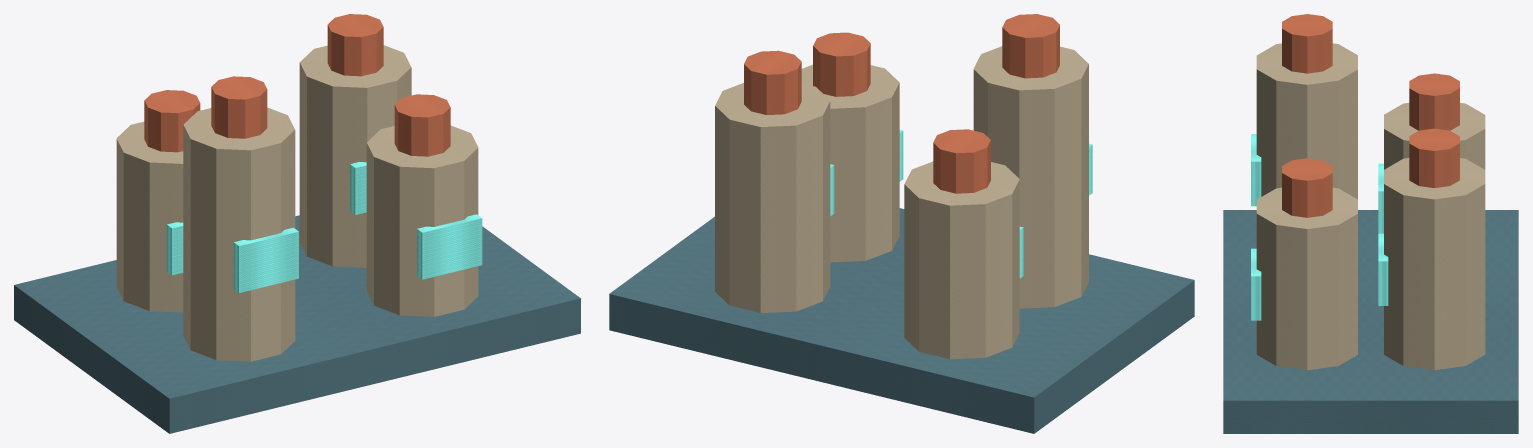
Rendered from atlas100-s041-a04.glb.
The picture shows the model from 3 angles, left to right: view 1: azimuth 30°, elevation 25°; view 2: azimuth 150°, elevation 25°; view 3: azimuth 270°, elevation 25°; orthographic projection. The views are drawn at different scales.
Parts seen in each view (by area): view 1: atlas100-s041-a04:part-000, atlas100-s041-a04:part-007, atlas100-s041-a04:part-010, atlas100-s041-a04:part-004, atlas100-s041-a04:part-001, atlas100-s041-a04:part-012, atlas100-s041-a04:part-009, atlas100-s041-a04:part-011, atlas100-s041-a04:part-005, atlas100-s041-a04:part-008, atlas100-s041-a04:part-002, atlas100-s041-a04:part-003 (+1 smaller); view 2: atlas100-s041-a04:part-000, atlas100-s041-a04:part-004, atlas100-s041-a04:part-007, atlas100-s041-a04:part-001, atlas100-s041-a04:part-010, atlas100-s041-a04:part-002, atlas100-s041-a04:part-008, atlas100-s041-a04:part-005, atlas100-s041-a04:part-011; view 3: atlas100-s041-a04:part-000, atlas100-s041-a04:part-004, atlas100-s041-a04:part-010, atlas100-s041-a04:part-007, atlas100-s041-a04:part-001, atlas100-s041-a04:part-005, atlas100-s041-a04:part-011, atlas100-s041-a04:part-008, atlas100-s041-a04:part-002, atlas100-s041-a04:part-012, atlas100-s041-a04:part-006, atlas100-s041-a04:part-009 (+1 smaller).
Part boxes in pixels (left/top/right/bottom): atlas100-s041-a04:part-000: left=14, top=215, right=580, bottom=433; atlas100-s041-a04:part-007: left=183, top=107, right=295, bottom=361; atlas100-s041-a04:part-010: left=366, top=125, right=478, bottom=316; atlas100-s041-a04:part-004: left=299, top=45, right=411, bottom=267; atlas100-s041-a04:part-001: left=116, top=121, right=183, bottom=312; atlas100-s041-a04:part-012: left=417, top=214, right=482, bottom=279; atlas100-s041-a04:part-009: left=233, top=227, right=298, bottom=292; atlas100-s041-a04:part-011: left=394, top=94, right=450, bottom=156; atlas100-s041-a04:part-005: left=327, top=14, right=383, bottom=76; atlas100-s041-a04:part-008: left=211, top=76, right=267, bottom=138; atlas100-s041-a04:part-002: left=144, top=90, right=200, bottom=152; atlas100-s041-a04:part-003: left=166, top=222, right=183, bottom=275; atlas100-s041-a04:part-000: left=609, top=208, right=1194, bottom=433; atlas100-s041-a04:part-004: left=715, top=83, right=830, bottom=312; atlas100-s041-a04:part-007: left=973, top=46, right=1088, bottom=308; atlas100-s041-a04:part-001: left=904, top=161, right=1019, bottom=359; atlas100-s041-a04:part-010: left=801, top=64, right=899, bottom=262; atlas100-s041-a04:part-002: left=933, top=129, right=990, bottom=193; atlas100-s041-a04:part-008: left=1002, top=14, right=1059, bottom=78; atlas100-s041-a04:part-005: left=744, top=50, right=801, bottom=114; atlas100-s041-a04:part-011: left=813, top=32, right=870, bottom=96; atlas100-s041-a04:part-000: left=1223, top=210, right=1518, bottom=433; atlas100-s041-a04:part-004: left=1384, top=158, right=1485, bottom=370; atlas100-s041-a04:part-010: left=1256, top=187, right=1357, bottom=370; atlas100-s041-a04:part-007: left=1256, top=43, right=1357, bottom=199; atlas100-s041-a04:part-001: left=1384, top=103, right=1485, bottom=169; atlas100-s041-a04:part-005: left=1409, top=128, right=1459, bottom=187; atlas100-s041-a04:part-011: left=1282, top=158, right=1332, bottom=217; atlas100-s041-a04:part-008: left=1282, top=14, right=1332, bottom=73; atlas100-s041-a04:part-002: left=1409, top=73, right=1459, bottom=130; atlas100-s041-a04:part-012: left=1251, top=248, right=1261, bottom=320; atlas100-s041-a04:part-006: left=1378, top=233, right=1388, bottom=305; atlas100-s041-a04:part-009: left=1251, top=134, right=1261, bottom=206.
Size of the model in its own units: 1.18 by 0.7804 by 0.7697.
Materials: 4 (4 with a texture image).
